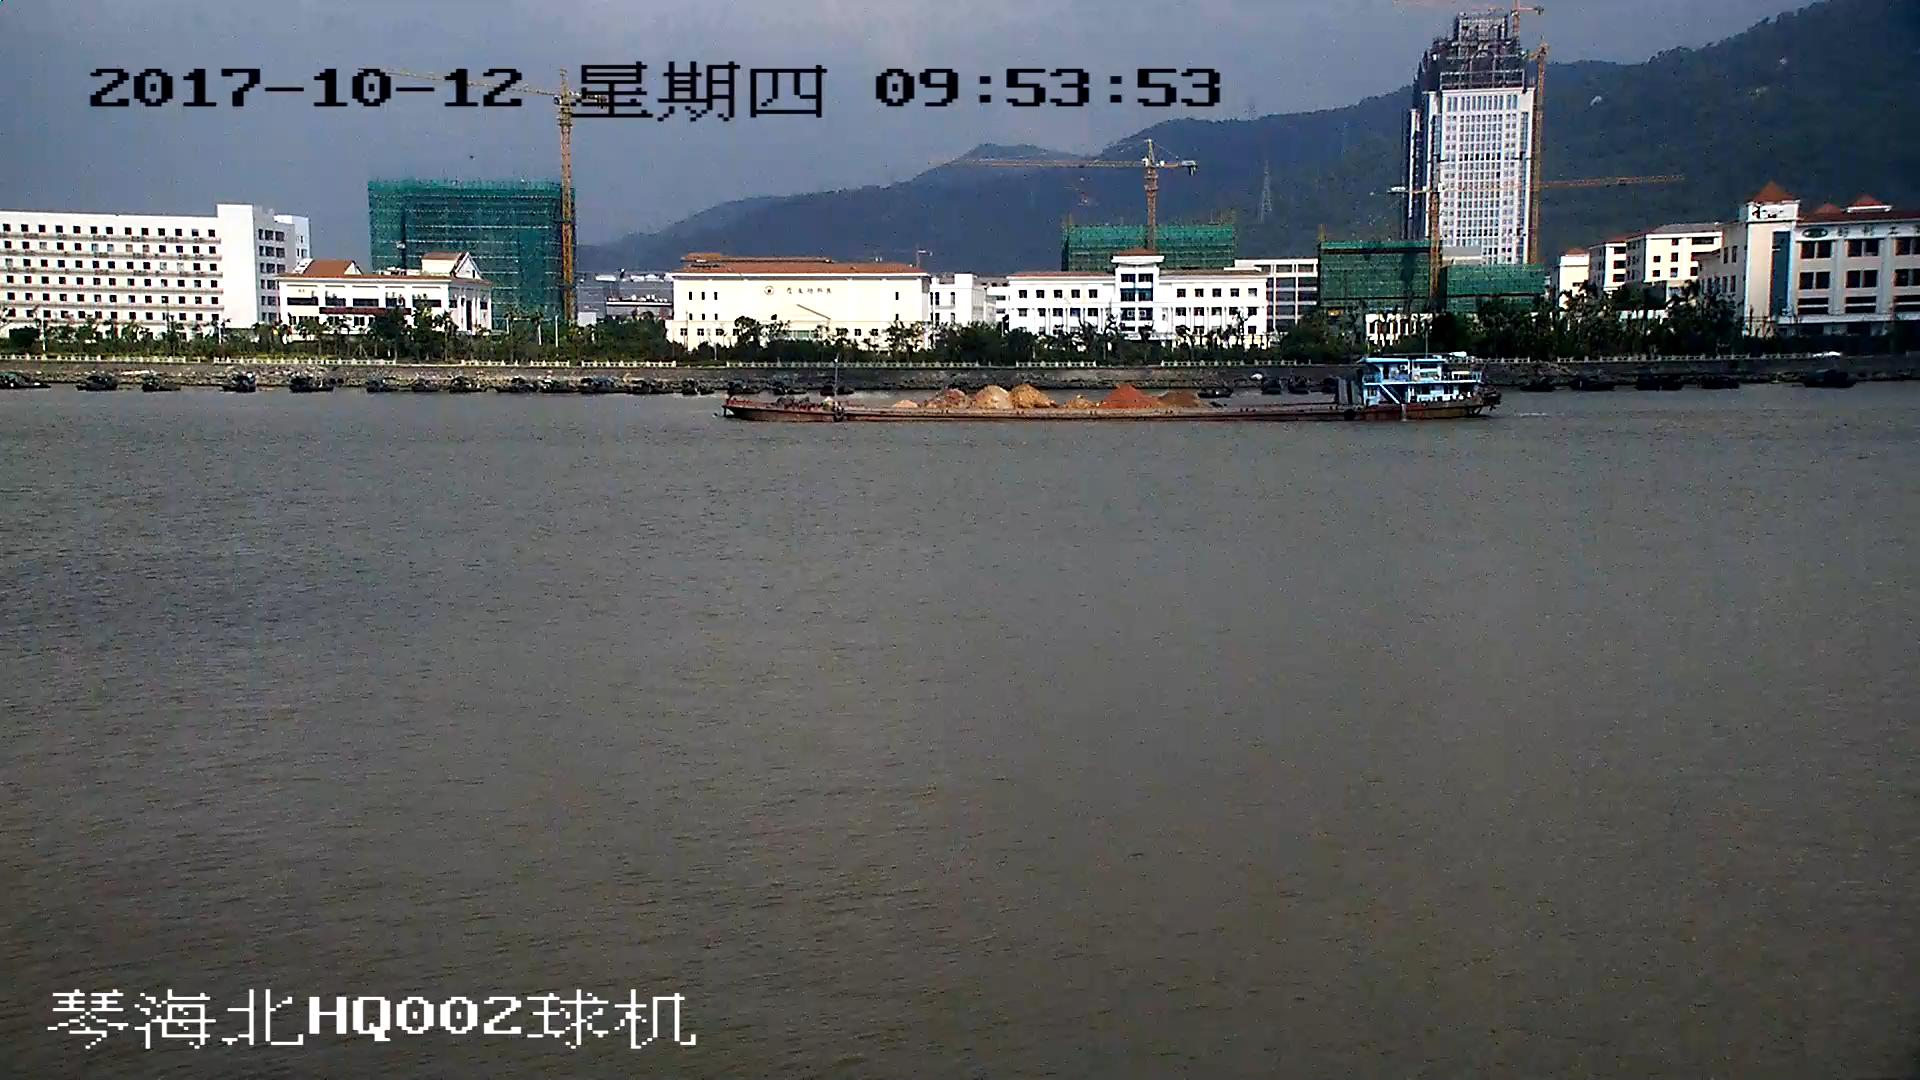ore carrier: (729, 350, 1502, 423)
